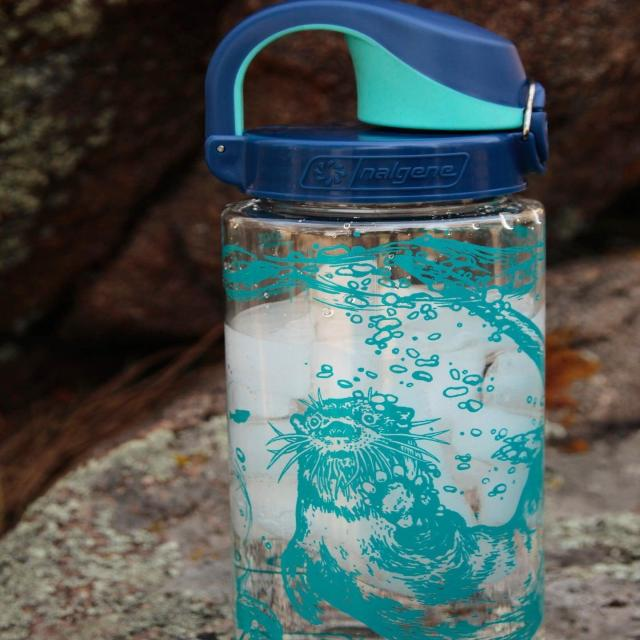gym bottle: (207, 0, 555, 640)
